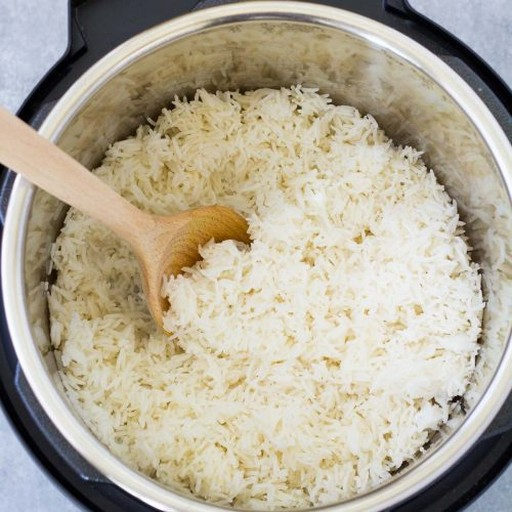rice: (190, 105, 331, 209)
